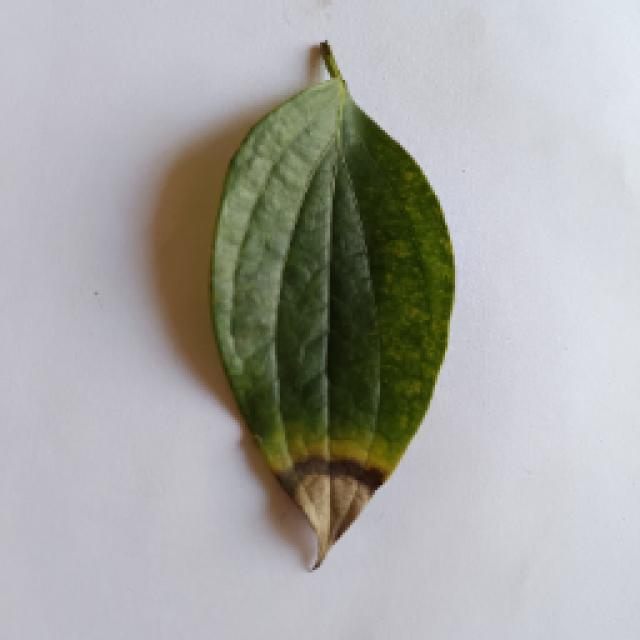footrot: (202, 48, 458, 578)
